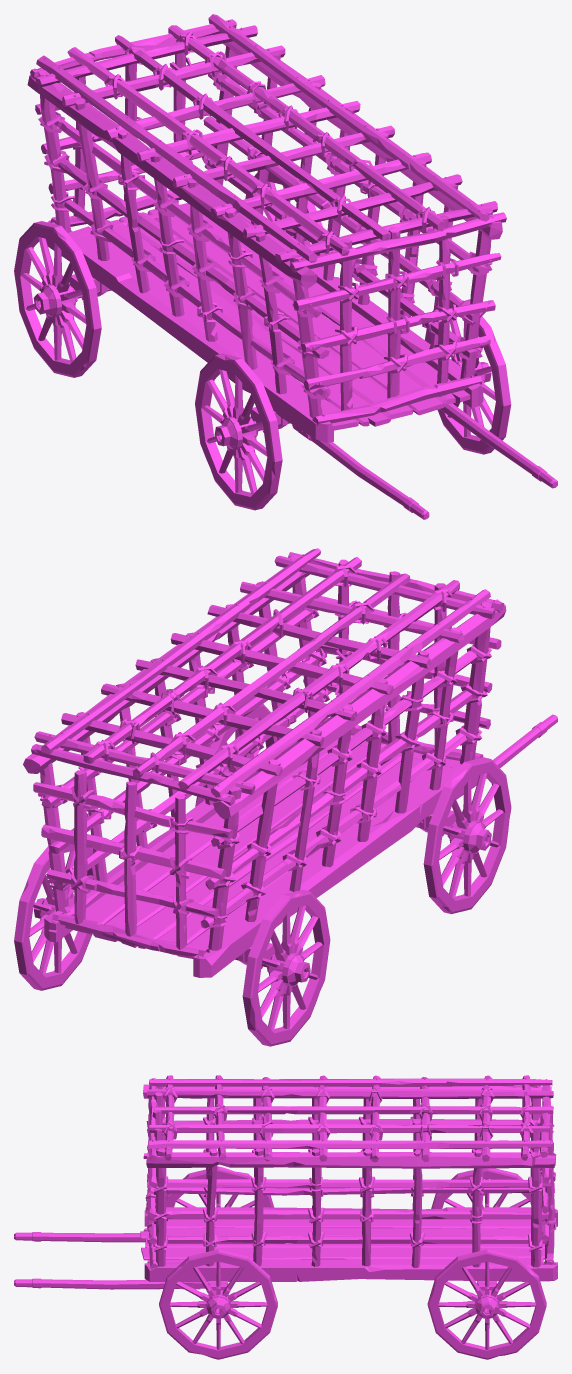
File: SM_Cart_Cage_Fantasy.fbx
3 views of the same model, one above another, from view 1: azimuth 30°, elevation 25°; view 2: azimuth 150°, elevation 25°; view 3: azimuth 270°, elevation 25° (orthographic). The views are drawn at different scales.
Visible parts, largest first — view 1: SM_Cart_Cage_Fantasy_Base, SM_Cart_Cage_Fantasy_Wheel_F, SM_Cart_Cage_Fantasy_Wheel_B, SM_Cart_Cage_Fantasy_Door, SM_Cart_Cage_Fantasy_Handles; view 2: SM_Cart_Cage_Fantasy_Base, SM_Cart_Cage_Fantasy_Wheel_B, SM_Cart_Cage_Fantasy_Door, SM_Cart_Cage_Fantasy_Wheel_F, SM_Cart_Cage_Fantasy_Handles; view 3: SM_Cart_Cage_Fantasy_Base, SM_Cart_Cage_Fantasy_Wheel_F, SM_Cart_Cage_Fantasy_Wheel_B, SM_Cart_Cage_Fantasy_Handles, SM_Cart_Cage_Fantasy_Door.
Part boxes in pixels (<box>): SM_Cart_Cage_Fantasy_Base: <box>27,14,506,442</box>; SM_Cart_Cage_Fantasy_Wheel_F: <box>195,300,511,510</box>; SM_Cart_Cage_Fantasy_Wheel_B: <box>14,170,325,377</box>; SM_Cart_Cage_Fantasy_Door: <box>35,52,213,226</box>; SM_Cart_Cage_Fantasy_Handles: <box>292,403,557,519</box>; SM_Cart_Cage_Fantasy_Base: <box>23,548,506,977</box>; SM_Cart_Cage_Fantasy_Wheel_B: <box>14,844,330,1046</box>; SM_Cart_Cage_Fantasy_Door: <box>33,770,233,956</box>; SM_Cart_Cage_Fantasy_Wheel_F: <box>195,704,511,914</box>; SM_Cart_Cage_Fantasy_Handles: <box>384,683,557,799</box>; SM_Cart_Cage_Fantasy_Base: <box>140,1075,557,1290</box>; SM_Cart_Cage_Fantasy_Wheel_F: <box>159,1166,277,1359</box>; SM_Cart_Cage_Fantasy_Wheel_B: <box>427,1168,546,1359</box>; SM_Cart_Cage_Fantasy_Handles: <box>14,1232,204,1289</box>; SM_Cart_Cage_Fantasy_Door: <box>539,1105,556,1264</box>.
Bounding box in the file's own units: 1.89 × 1.91 × 4.49.
